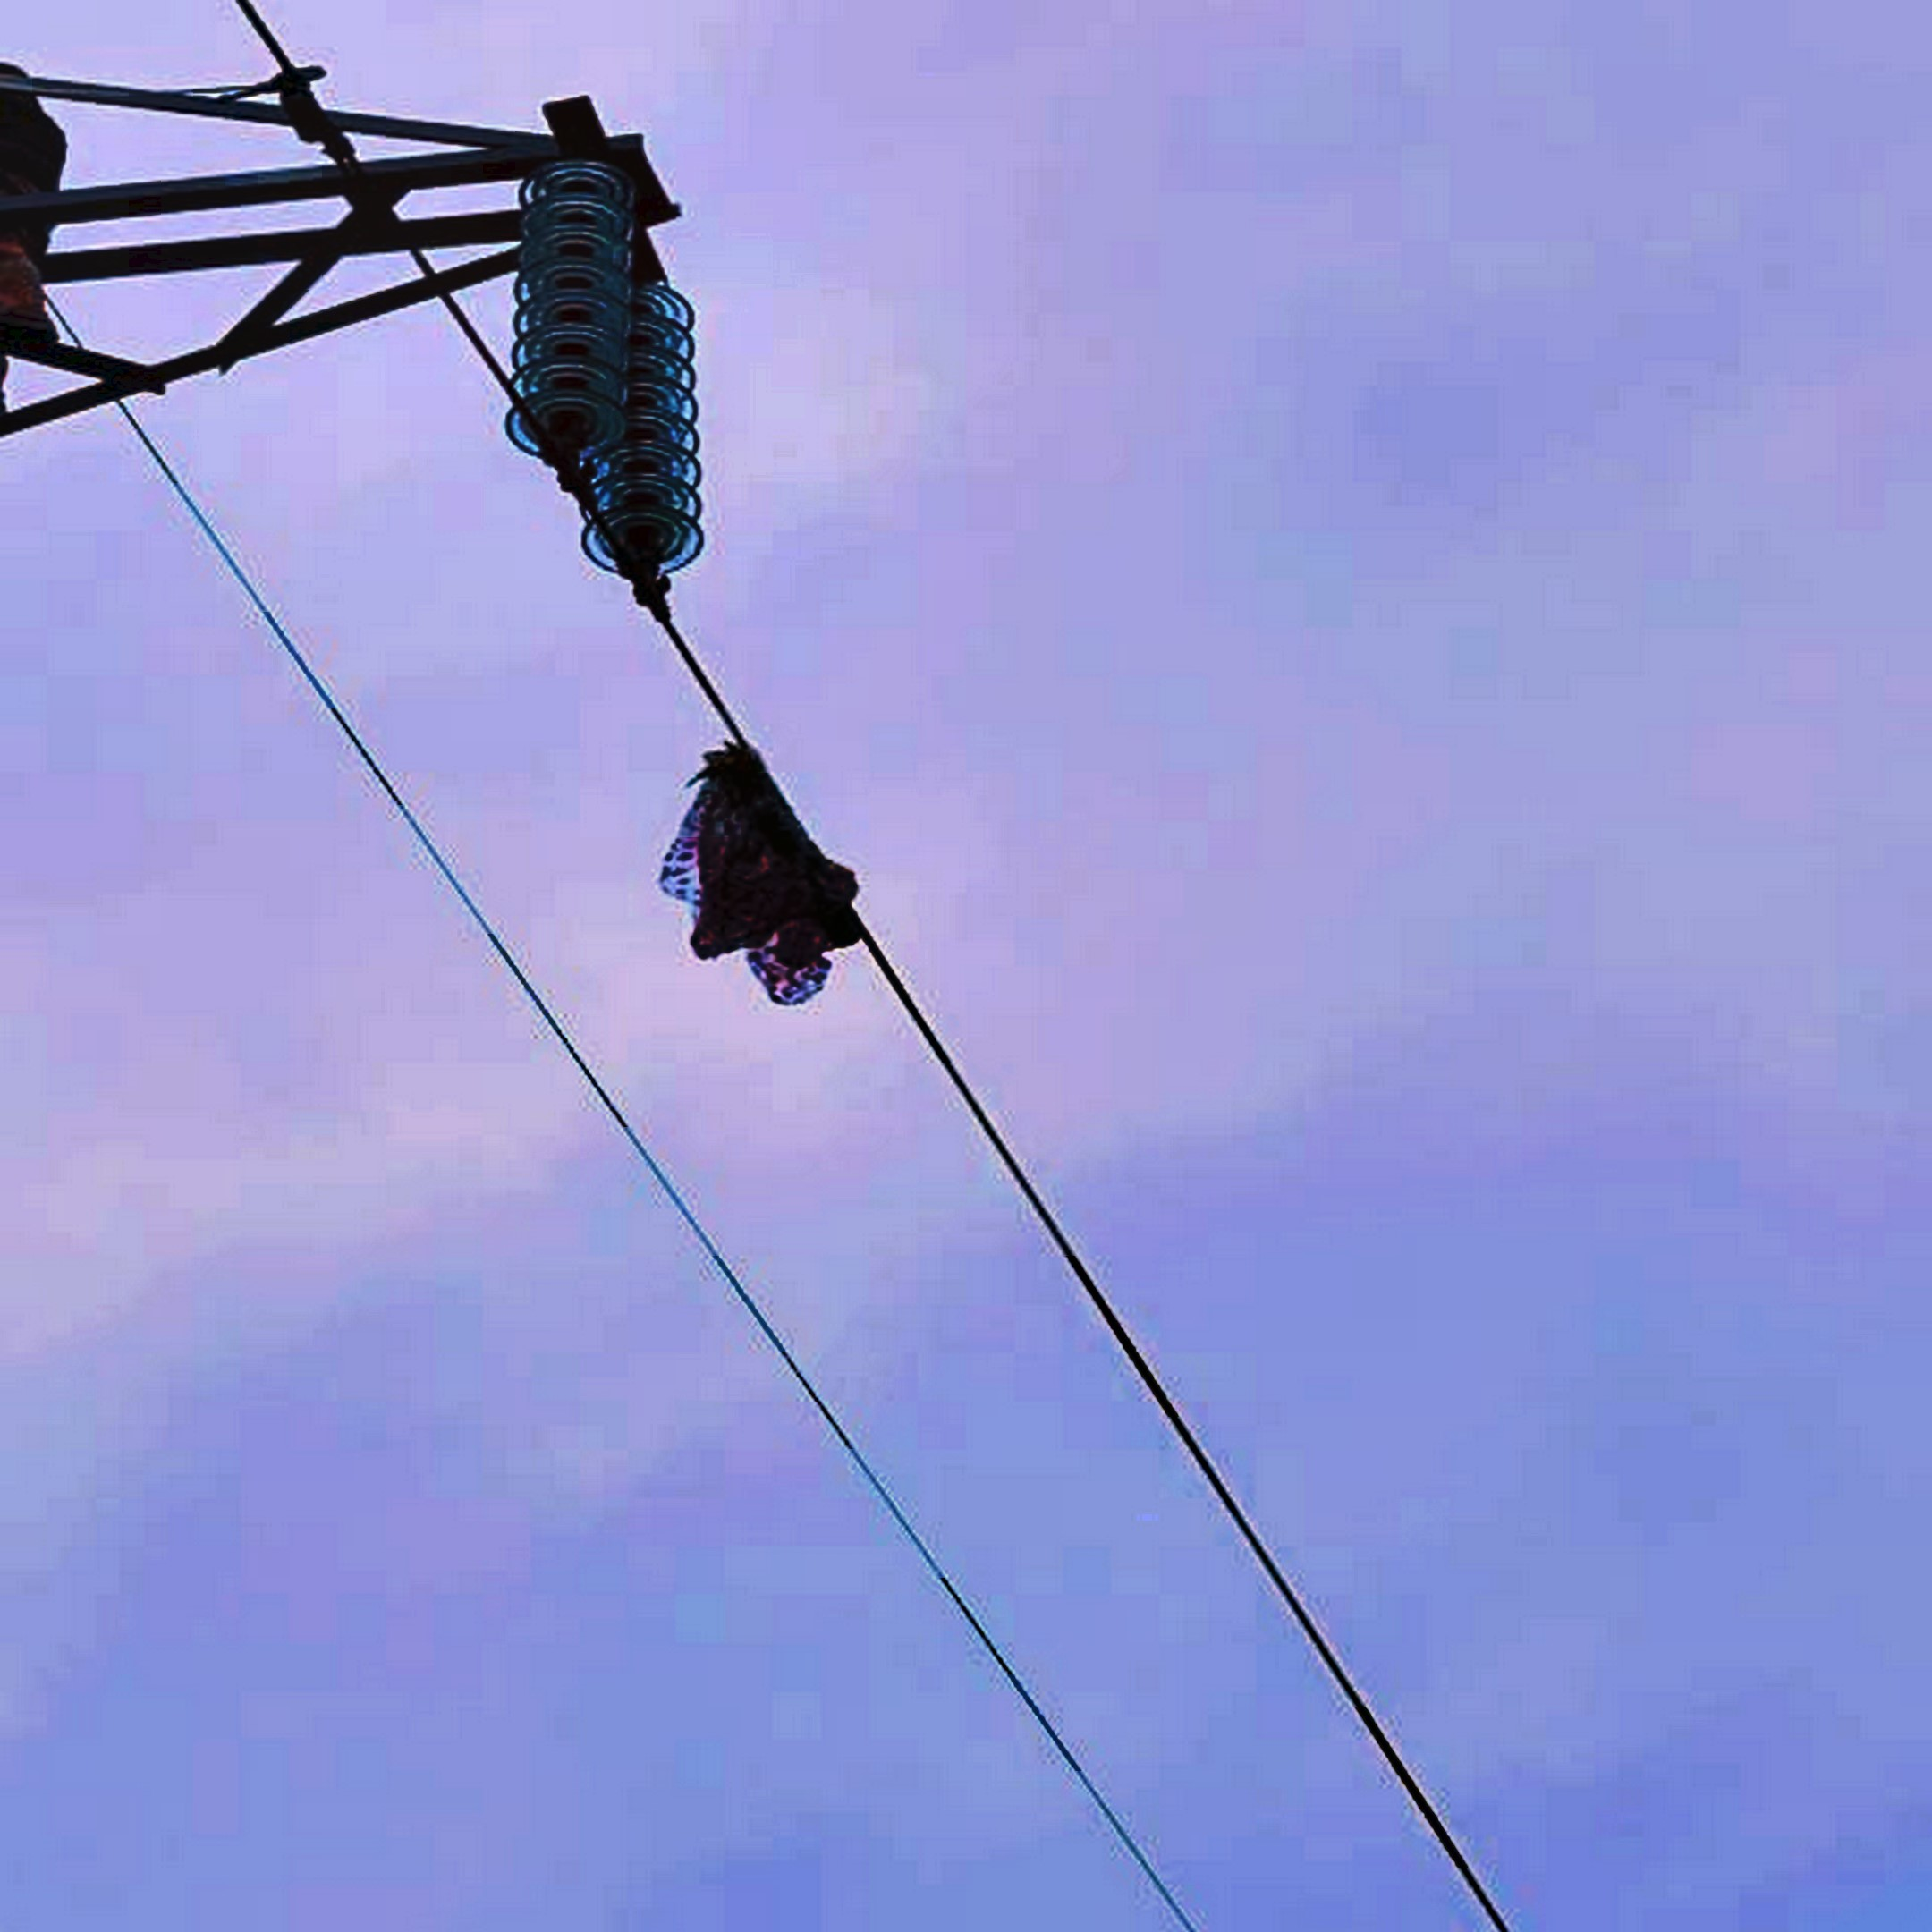wire foreign body: (639, 731, 922, 1012)
